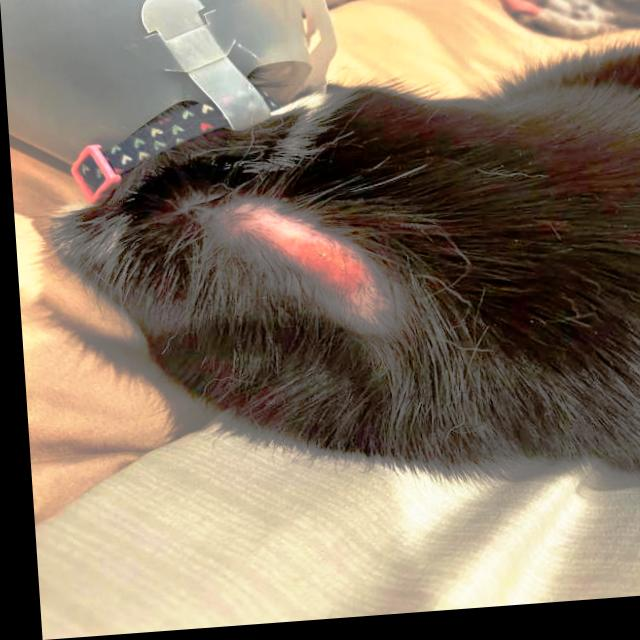hairloss: (214, 204, 385, 328)
